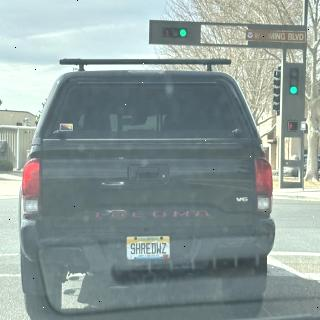license: (126, 237, 171, 262)
